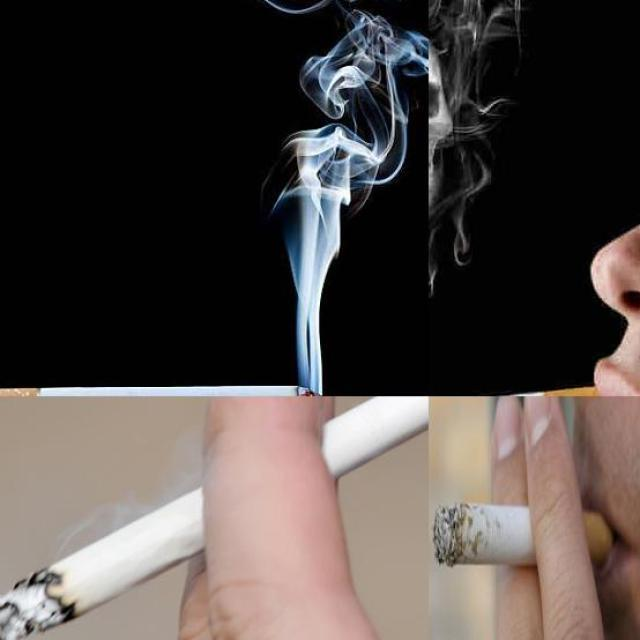smoking: (0, 396, 427, 638), (432, 501, 614, 568)
